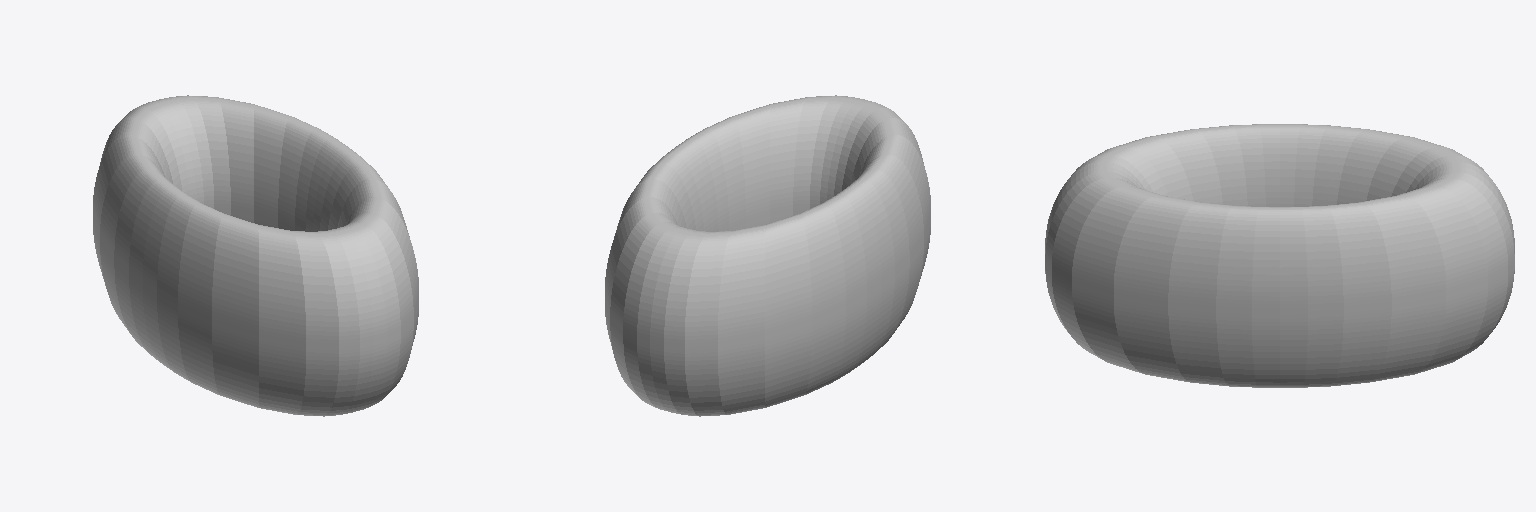
The model's file is planet4.obj.
3 views of the same model, side by side, from view 1: azimuth 30°, elevation 25°; view 2: azimuth 150°, elevation 25°; view 3: azimuth 270°, elevation 25° (orthographic).
Parts seen in each view (by area): view 1: Planet4_SurfTorus.002; view 2: Planet4_SurfTorus.002; view 3: Planet4_SurfTorus.002.
Part boxes in pixels (bbox=[...]): Planet4_SurfTorus.002: bbox=[93, 95, 418, 416]; Planet4_SurfTorus.002: bbox=[605, 95, 930, 416]; Planet4_SurfTorus.002: bbox=[1045, 124, 1514, 387].
Size of the model in its own units: 300 by 225 by 540.